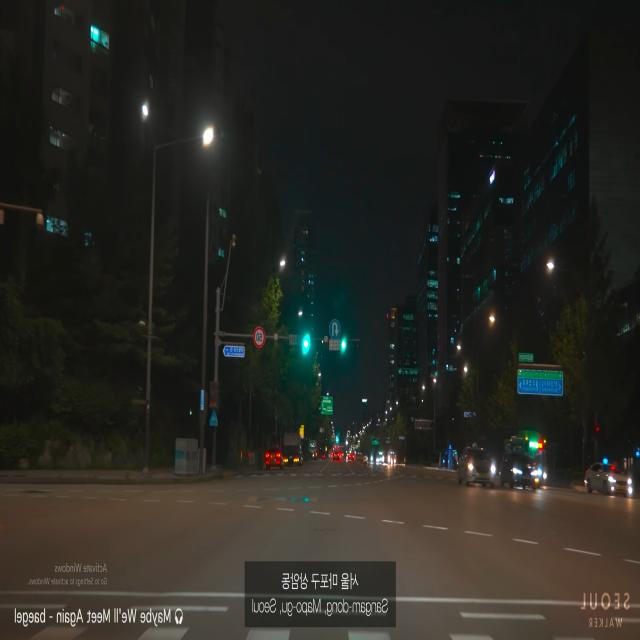headlights: (462, 456, 498, 488), (508, 460, 546, 487), (605, 470, 636, 499)
